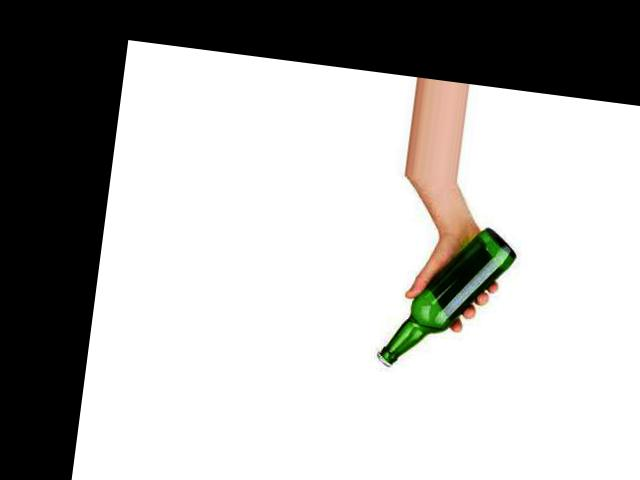beer: (375, 213, 517, 378)
